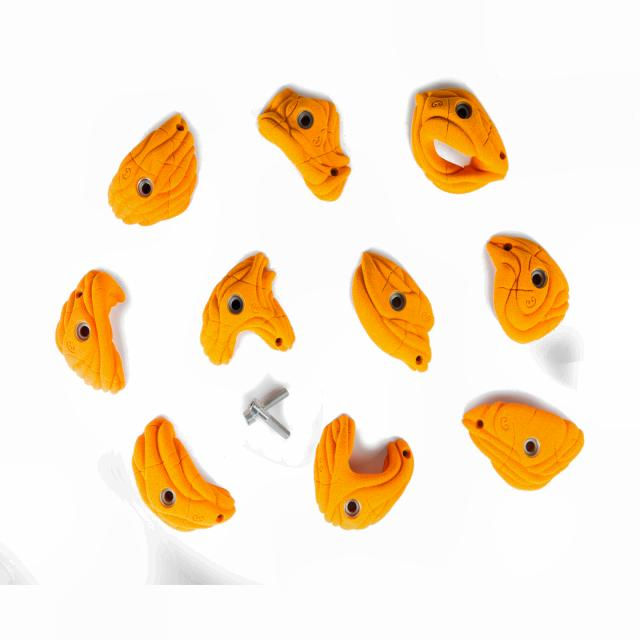Hold: (126, 418, 240, 530), (313, 413, 414, 535), (98, 110, 204, 222), (461, 398, 585, 492), (201, 252, 297, 368), (409, 89, 511, 195), (349, 248, 434, 374), (256, 88, 351, 200), (486, 234, 568, 346), (56, 269, 130, 390)
